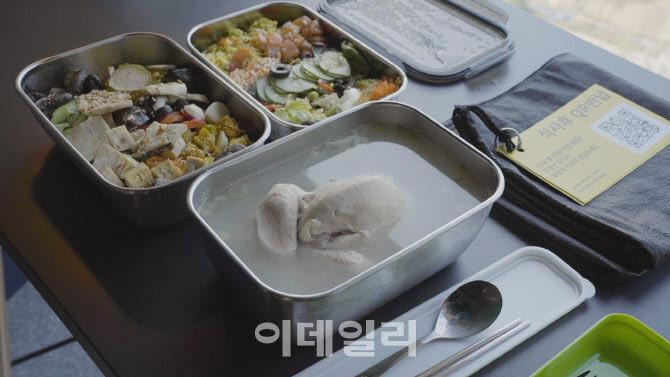Lunch Box: (187, 102, 503, 324), (16, 32, 270, 227), (188, 0, 513, 137)
